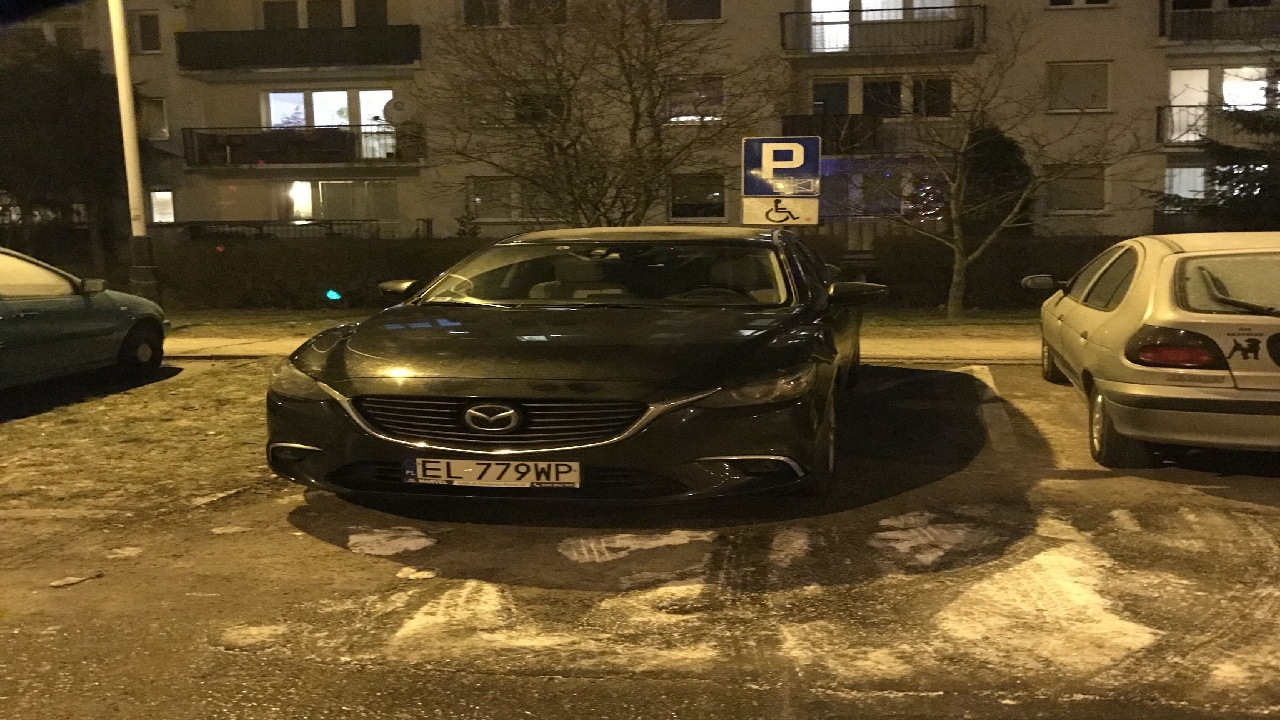D18: (742, 136, 820, 197)
